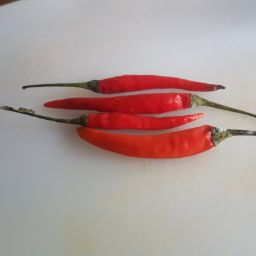Cayenne pepper: (1, 65, 256, 161)
